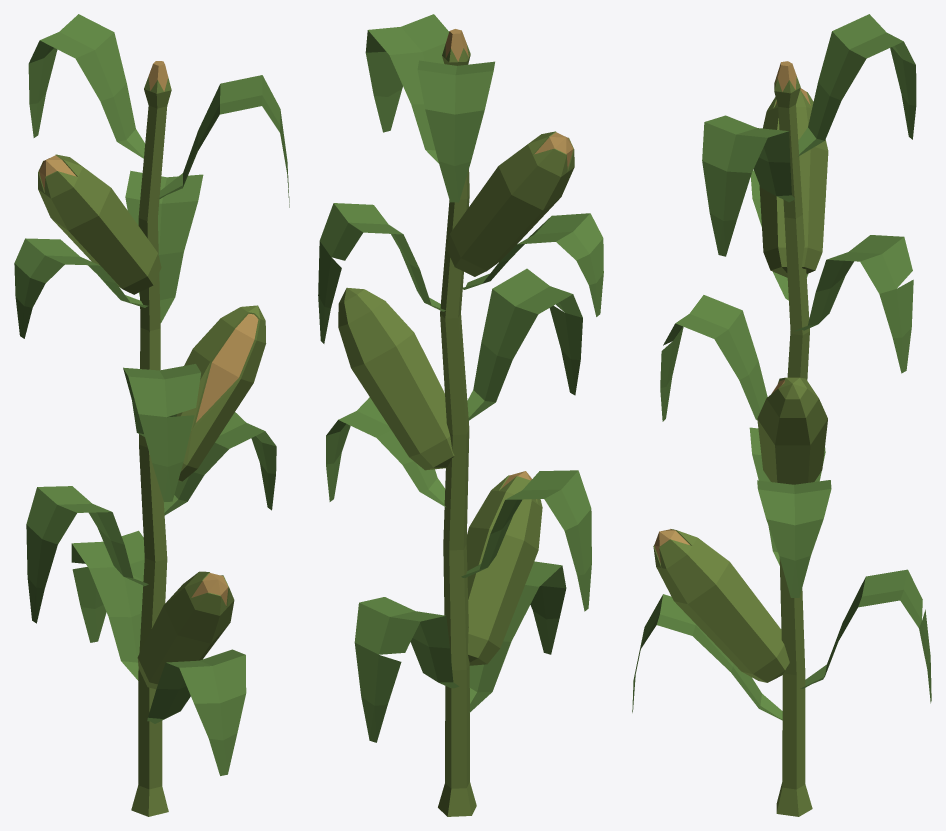
Rendered from SM_Envr_Nature_Farm_Plant_Corn_Mid.fbx.
3 views of the same model, side by side, from view 1: azimuth 30°, elevation 25°; view 2: azimuth 150°, elevation 25°; view 3: azimuth 270°, elevation 25° (orthographic). The views are drawn at different scales.
Visible parts, largest first — view 1: SM_Envr_Nature_Farm_Plant_Corn_Mid; view 2: SM_Envr_Nature_Farm_Plant_Corn_Mid; view 3: SM_Envr_Nature_Farm_Plant_Corn_Mid.
Boxes of the visible parts, x1,y1,x2,y2 form: SM_Envr_Nature_Farm_Plant_Corn_Mid: (14,14,289,816); SM_Envr_Nature_Farm_Plant_Corn_Mid: (318,14,603,816); SM_Envr_Nature_Farm_Plant_Corn_Mid: (632,14,931,816).
Size of the model in its own units: 51.78 by 149 by 53.05.
